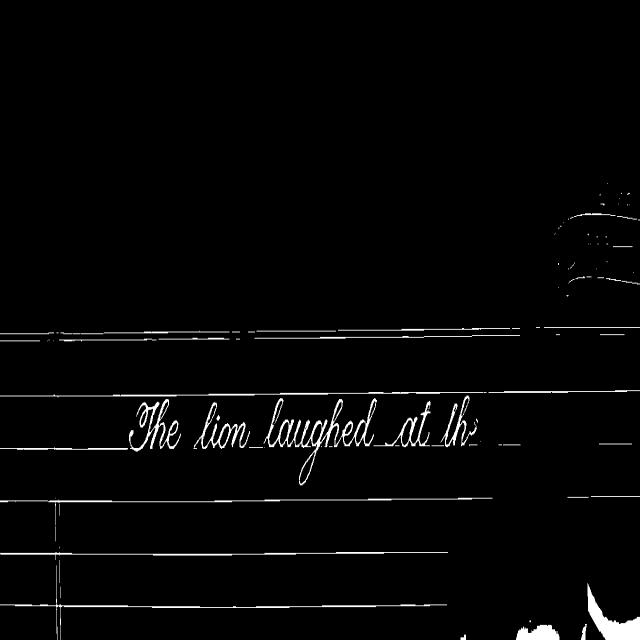hand: (588, 586, 640, 639), (516, 625, 559, 639), (581, 624, 586, 639), (461, 636, 466, 639)
noise: (0, 601, 446, 614), (0, 389, 640, 397), (0, 548, 448, 558), (248, 327, 522, 339), (0, 498, 493, 504), (0, 331, 240, 341), (50, 500, 61, 639), (534, 325, 640, 336), (0, 446, 132, 452), (566, 494, 640, 499), (596, 443, 633, 447), (498, 443, 521, 445)
not-noise: (128, 394, 478, 479)
page-marker: (554, 203, 640, 294)
